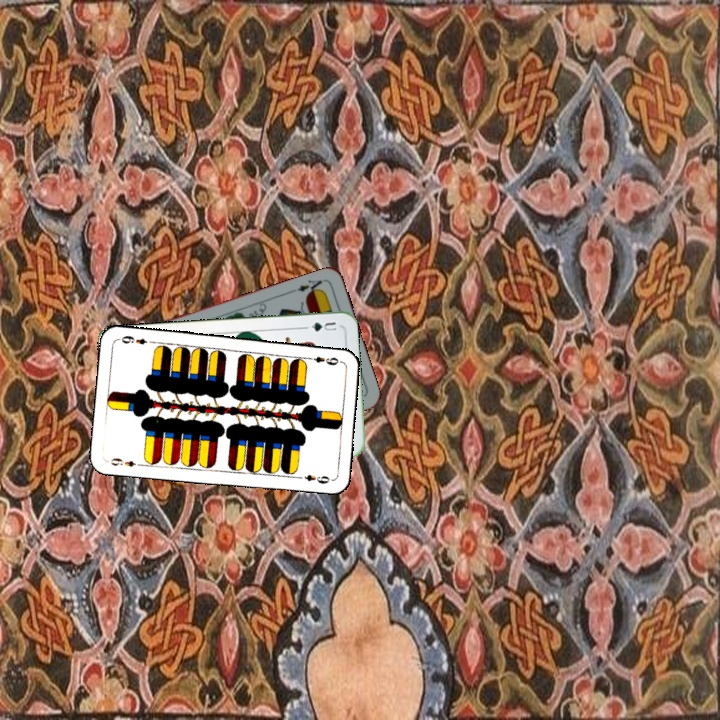E9: (105, 454, 145, 470), (303, 353, 344, 368)
EA: (288, 276, 325, 298)
GU: (301, 318, 339, 334)
